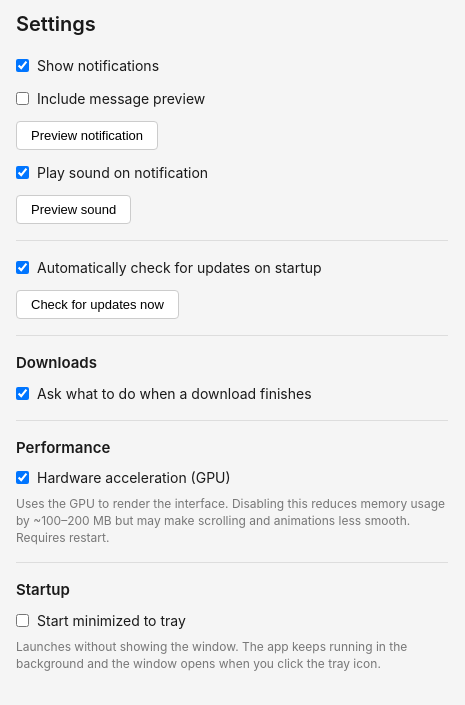
Test: SettingsView auto-update controls › shows failed message when manual check fails
The width and height of the screenshot is (465, 705).
Click the button "Check for updates now" at (98, 304), box [16,290,179,319]
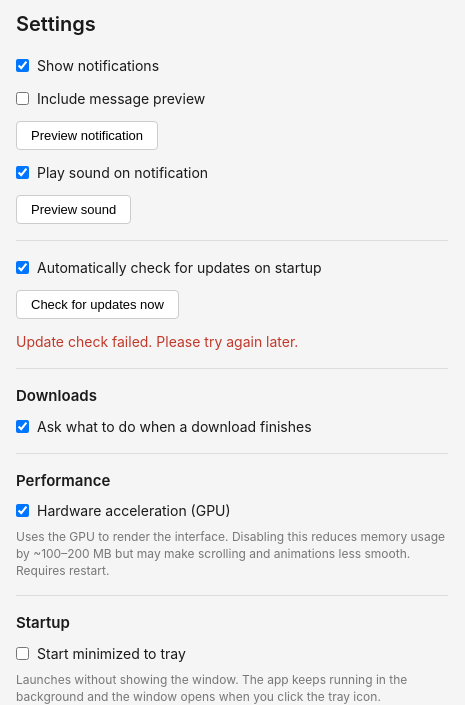
Now the text "Update check failed. Please try again later." is shown, box [16,331,298,352]
